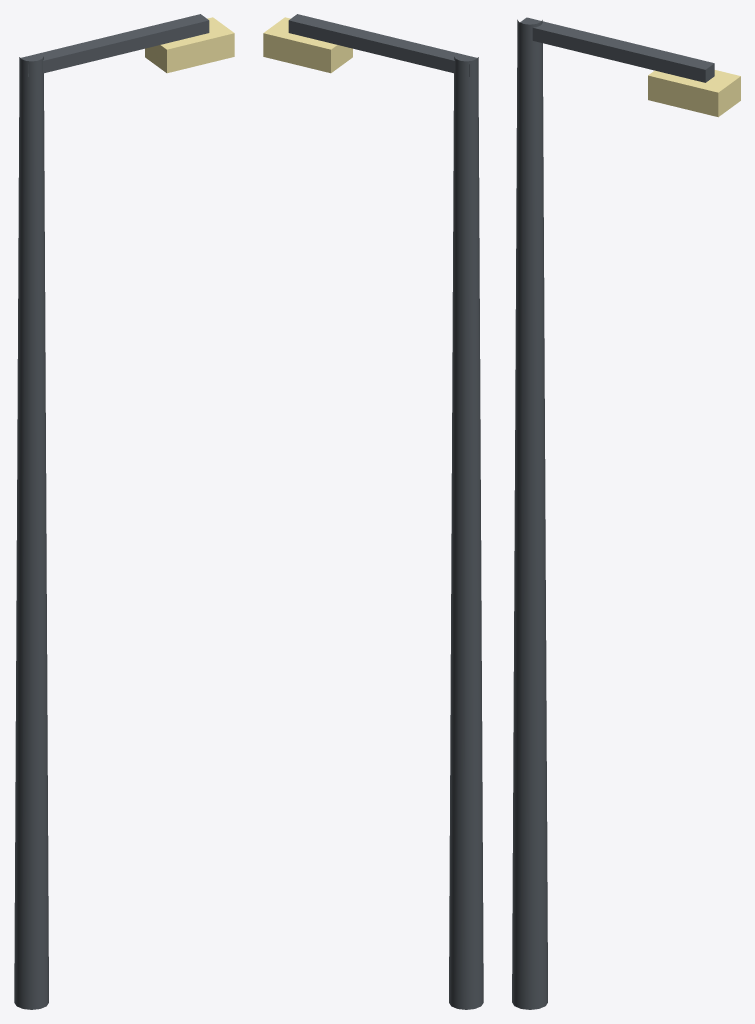
File: street-lamp.glb
3 renders of one model, left to right at view 1: azimuth 30°, elevation 25°; view 2: azimuth 150°, elevation 25°; view 3: azimuth 330°, elevation 25°, orthographic. The views are drawn at different scales.
Bounding box in the file's own units: 1.37 × 6 × 0.25.
